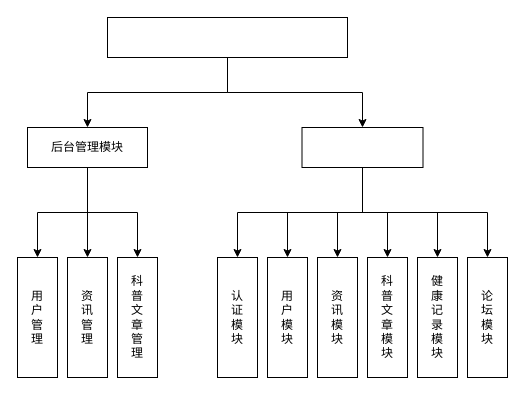
Image size: 525x395. Some labels were removed from this diagram. The shapes that lost their labels are listed below. From the top down, each one's centre as x and y in pixels, then its label:
(227,37): 疫情预防系统设计与实现
(362,147): Web模块
